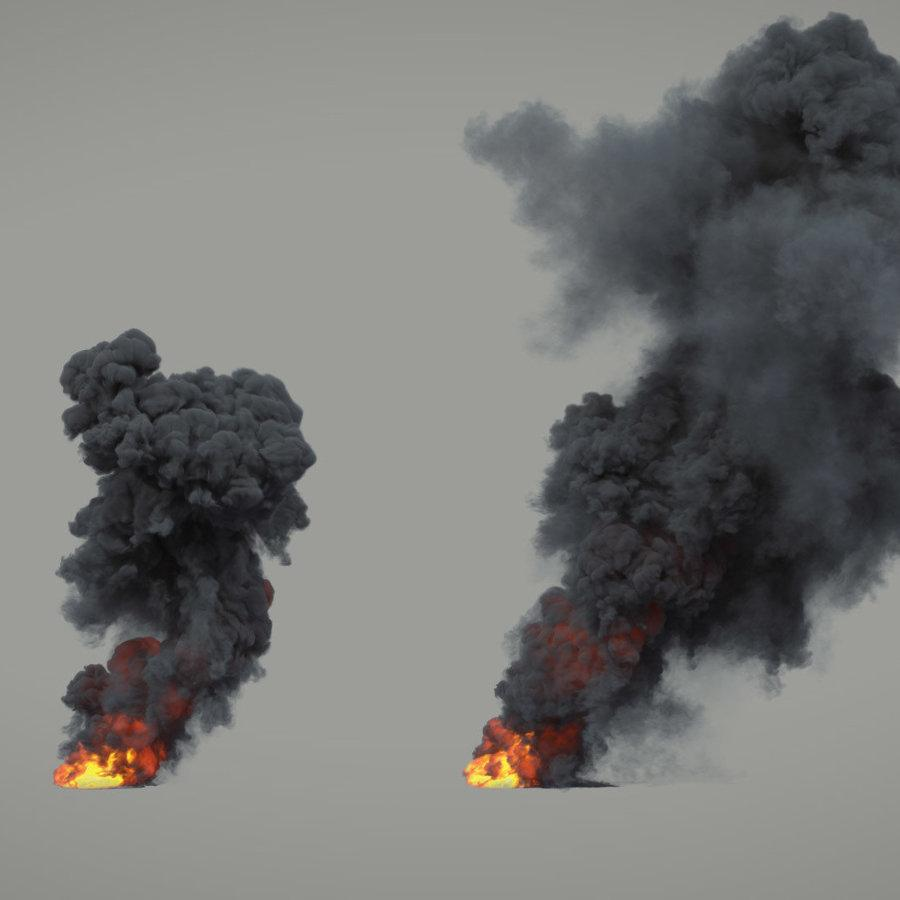Fire: (52, 720, 174, 792), (461, 720, 554, 788)
Smoke: (483, 16, 889, 755), (59, 329, 308, 751)
